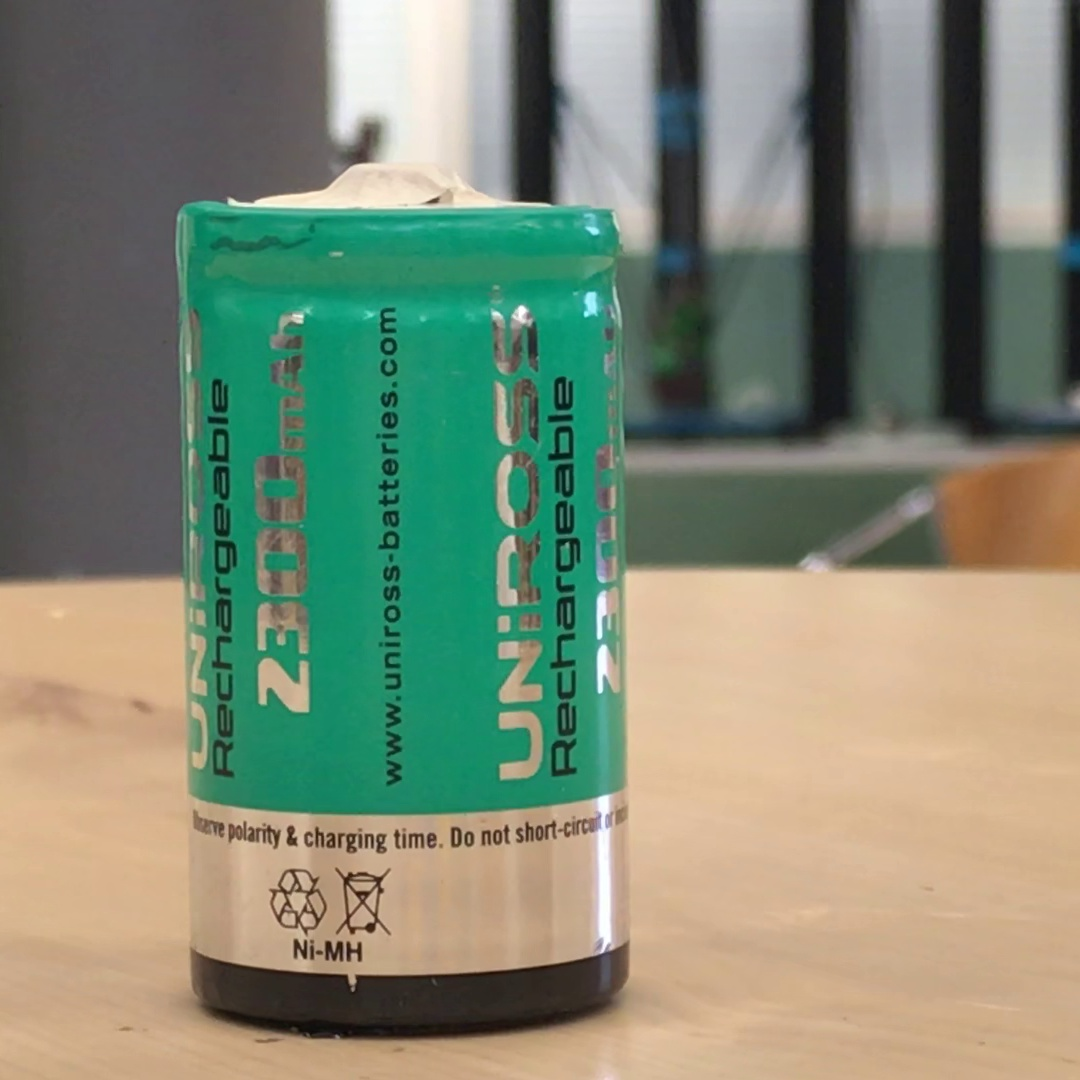keyword: (283, 931, 372, 969)
